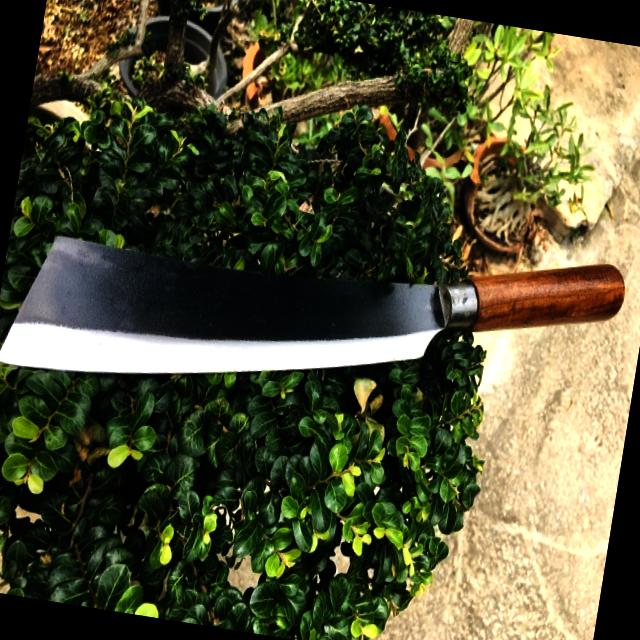eto: (0, 220, 635, 384)
